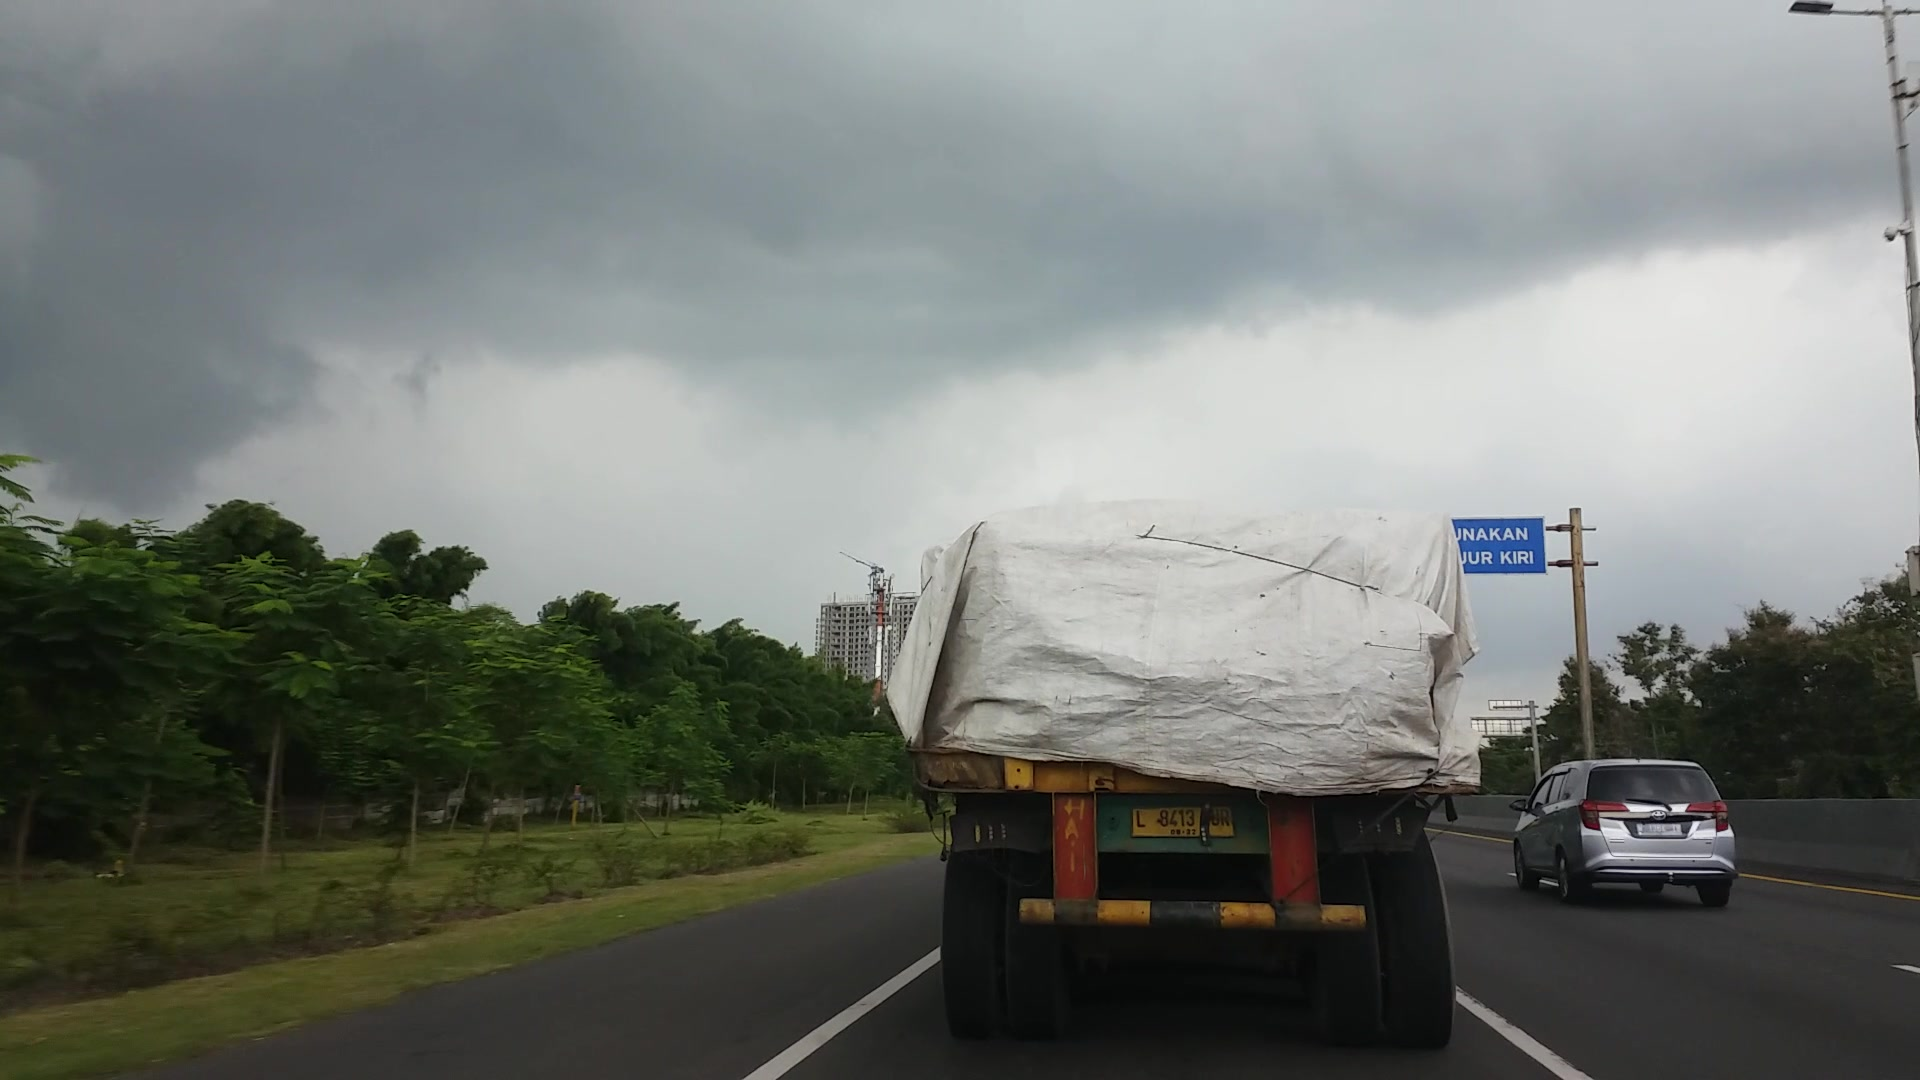plate_positive: (1131, 806, 1234, 837)
